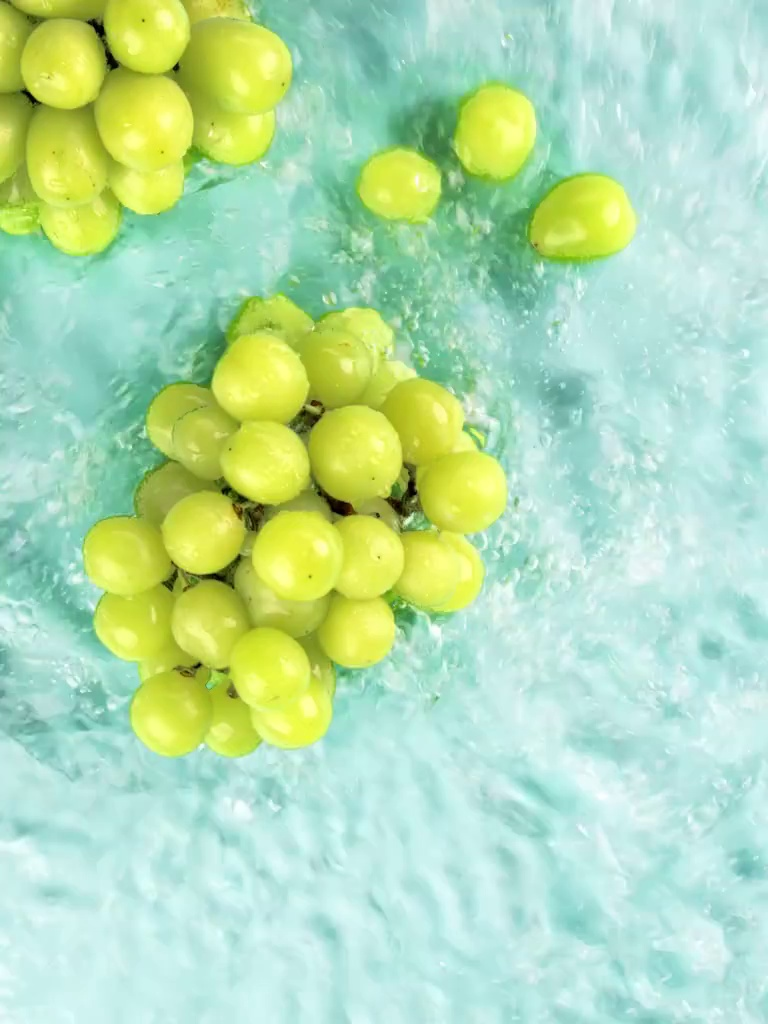grape: (79, 279, 507, 762), (1, 1, 290, 256)
